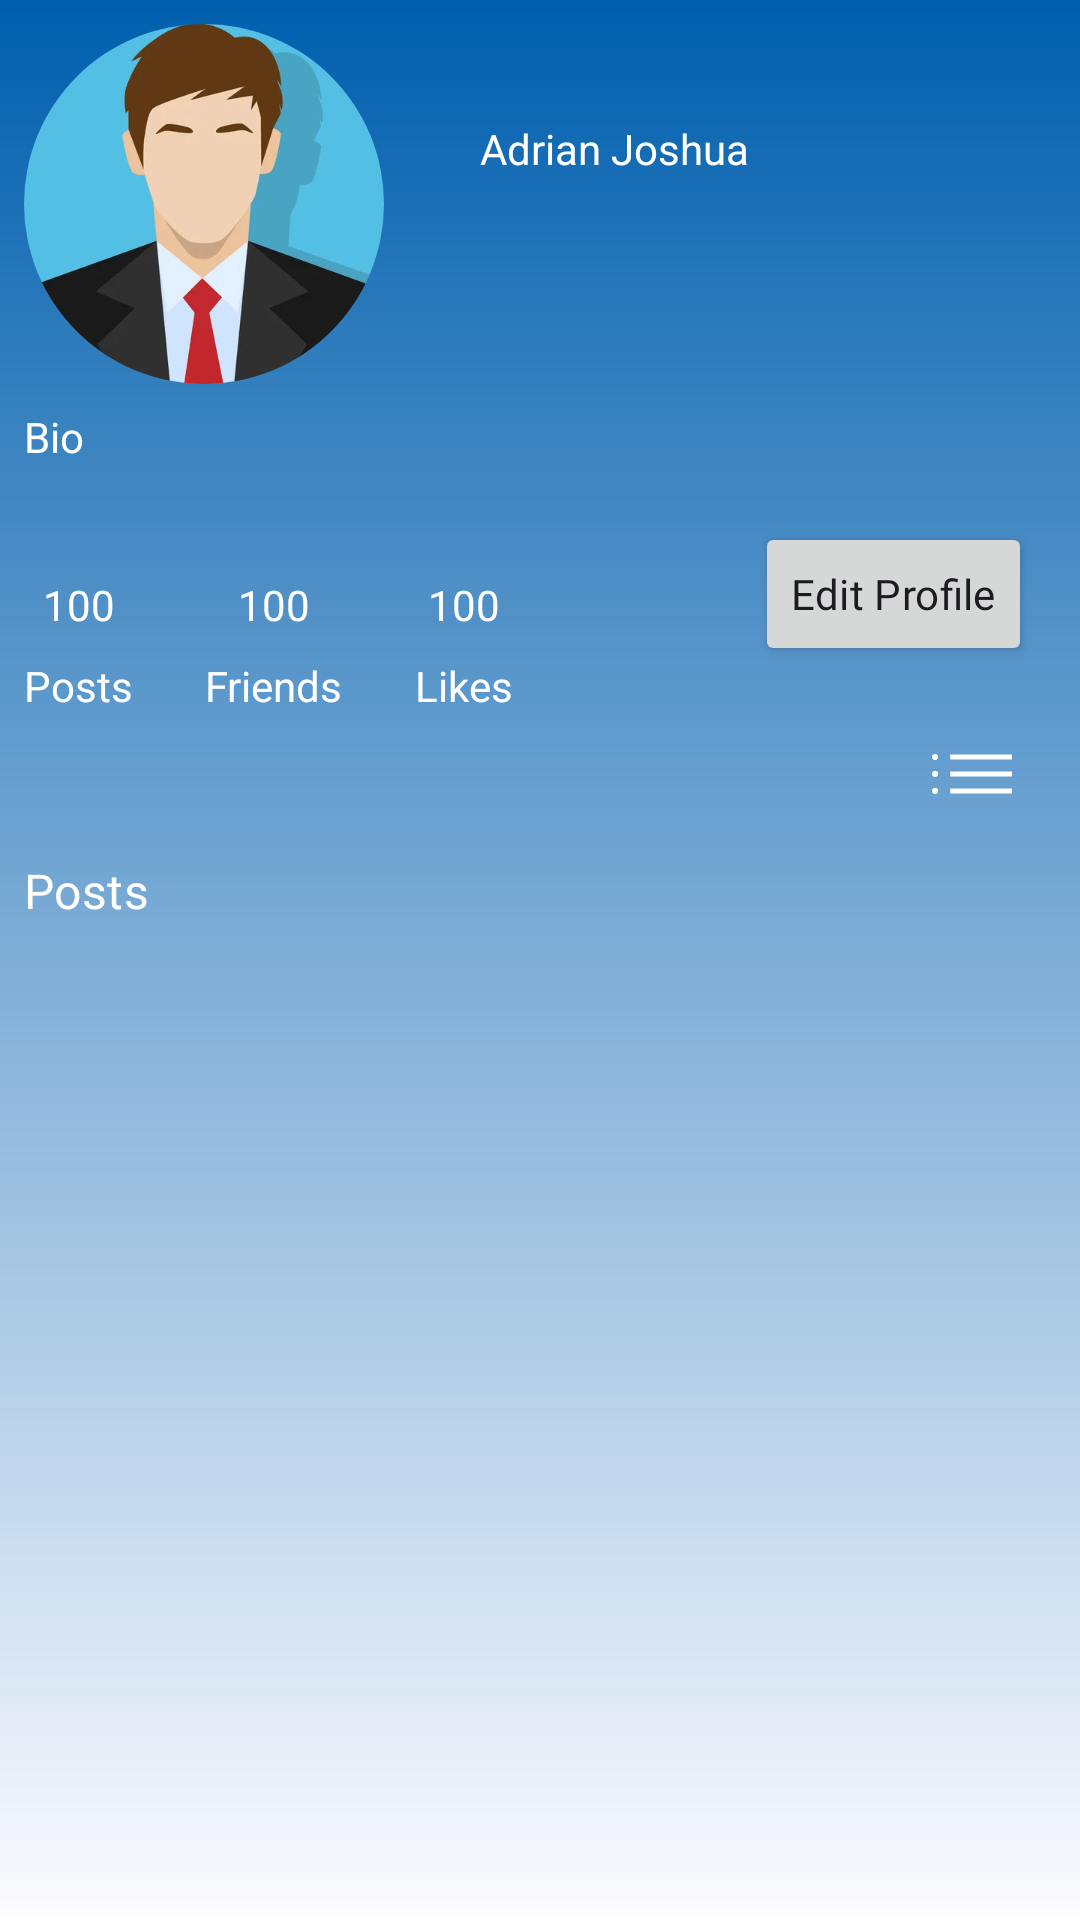

Icon click points for this 1080px x 1920px phone screenshot, format point (x, y):
profilepic: point (204, 204)
